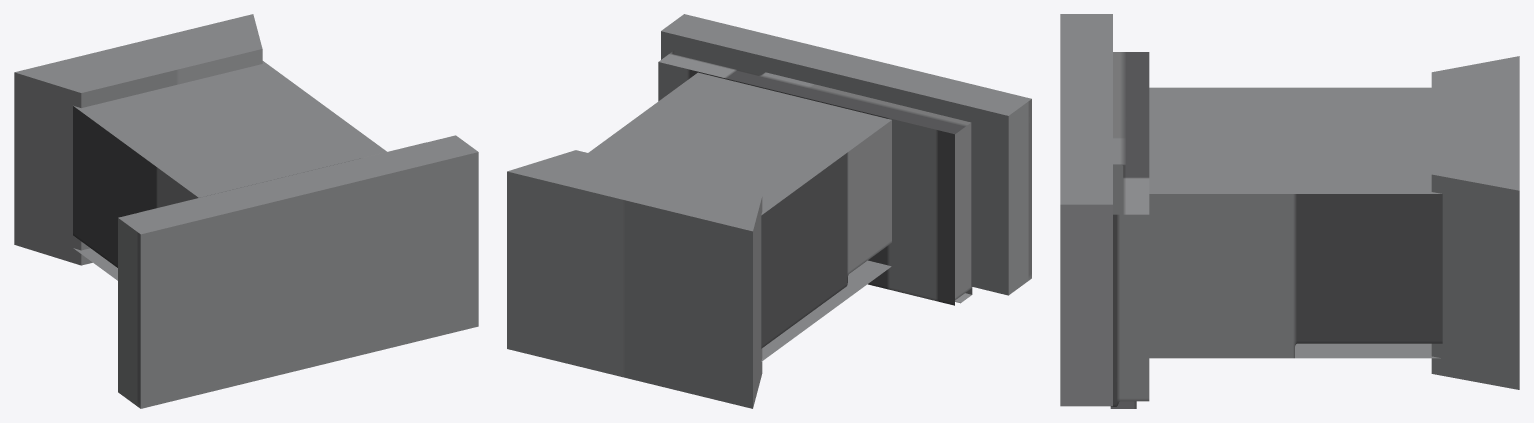
3 views of the same model, side by side, from view 1: azimuth 30°, elevation 25°; view 2: azimuth 150°, elevation 25°; view 3: azimuth 270°, elevation 25° (orthographic). The views are drawn at different scales.
Size of the model in its own units: 0.8856 by 0.4592 by 0.9025.
